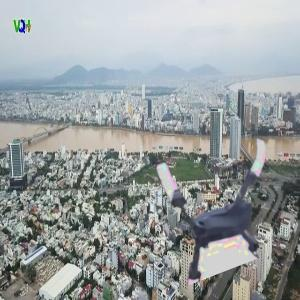drone: (158, 135, 292, 269)
